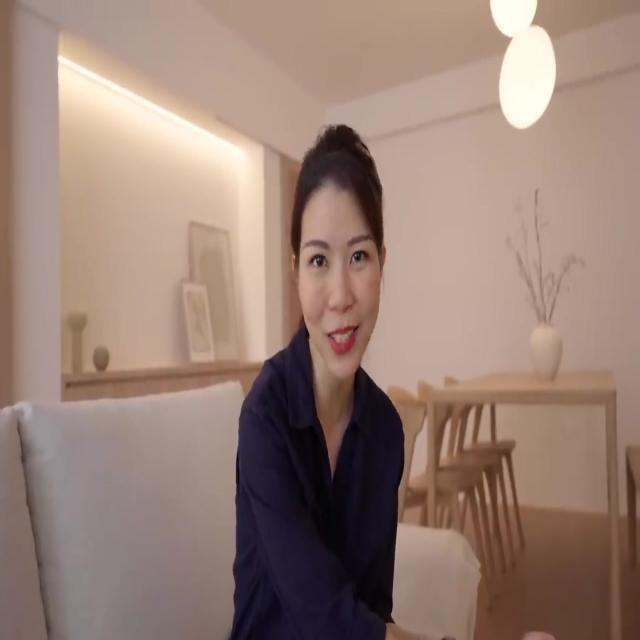obstacle: (0, 378, 482, 638), (424, 368, 622, 638)
person: (228, 121, 452, 640)
